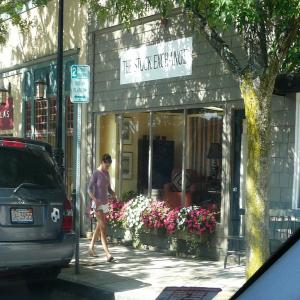Vehicle-registration-plate: (10, 208, 36, 224)
